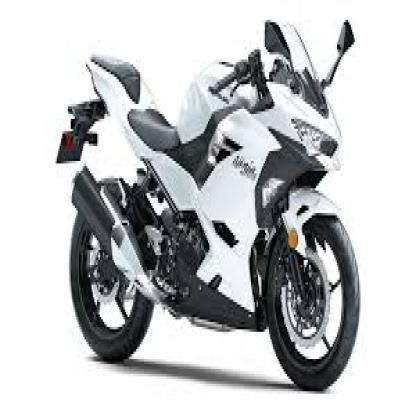Motorcycle: (51, 8, 372, 390)
